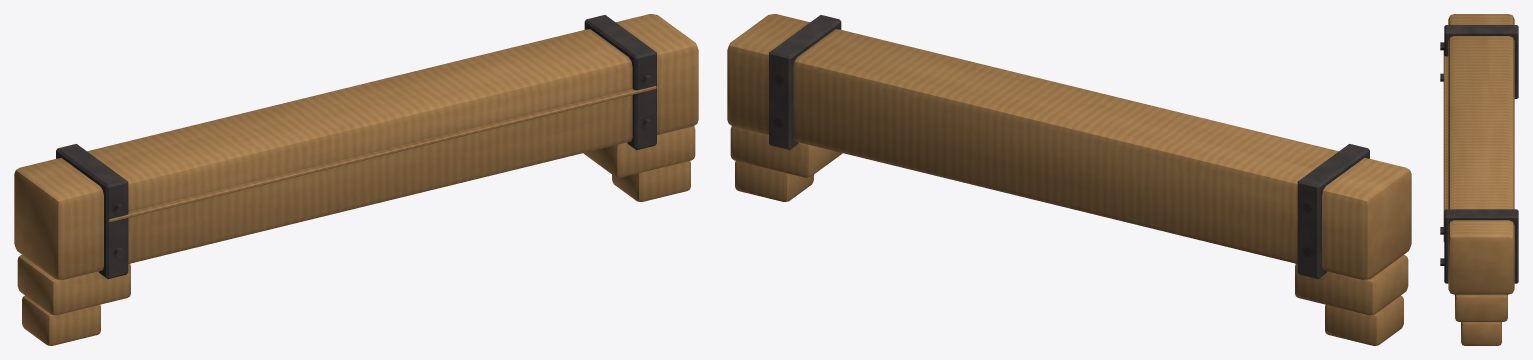
Rendered from gallery_beam.glb.
3 renders of one model, left to right at view 1: azimuth 30°, elevation 25°; view 2: azimuth 150°, elevation 25°; view 3: azimuth 270°, elevation 25°, orthographic. The views are drawn at different scales.
Visible parts, largest first — view 1: gallery_beam; view 2: gallery_beam; view 3: gallery_beam.
Part boxes in pixels (left/top/right/bottom): gallery_beam: left=14, top=14, right=698, bottom=345; gallery_beam: left=727, top=14, right=1411, bottom=345; gallery_beam: left=1440, top=14, right=1518, bottom=345.
Bounding box in the file's own units: 4 × 0.95 × 0.59.
Materials: 1 (1 with a texture image).
